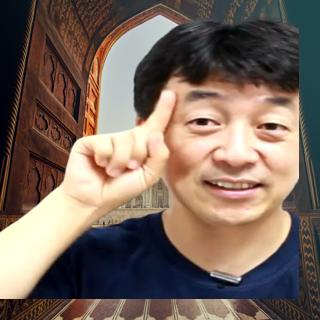IRRITATED: (60, 86, 180, 215)
